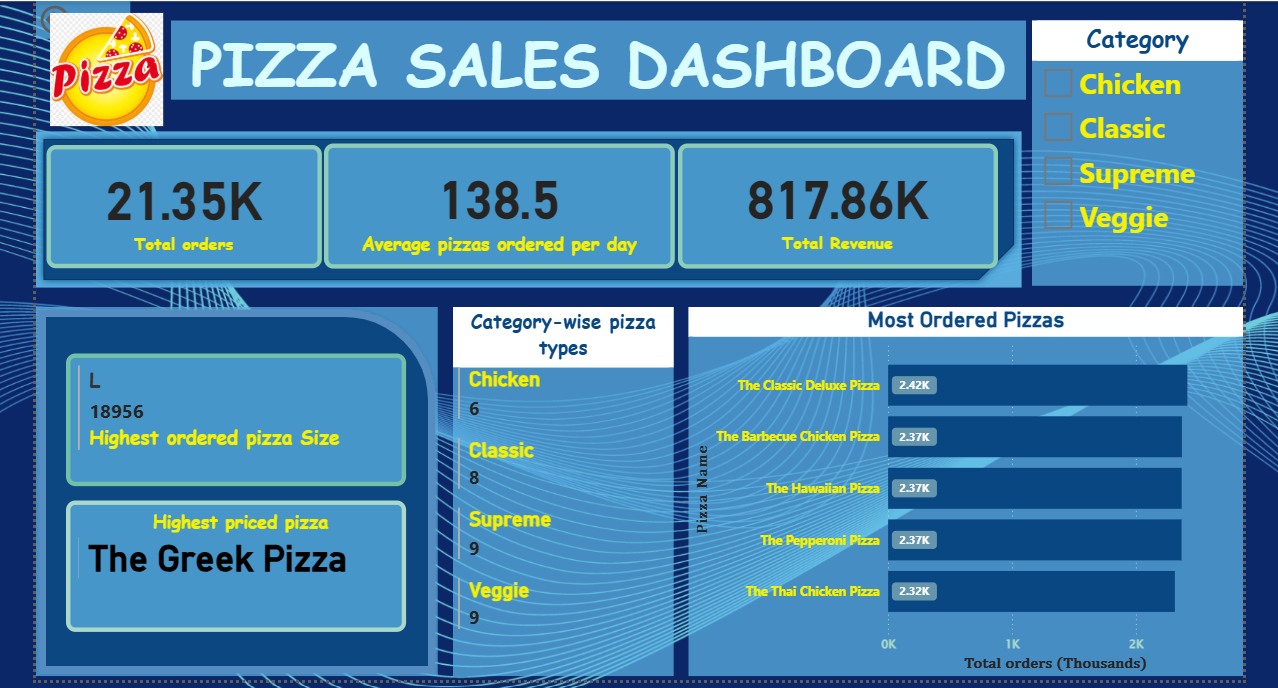

The page's visual inventory and layout, read from the dashboard file:
{"tool":"powerbi","page":{"name":"Page 1","canvas":[1280,720],"ordinal":0},"visuals":[{"type":"actionButton","box":[0,0,100,40],"z":0},{"type":"shape","box":[0,138,1045,165.4],"z":0,"group":"g2"},{"type":"shape","box":[0,324.5,426.3,391.3],"z":0,"group":"g3"},{"type":"card","fields":{"Values":["CountNonNull(orders.order_id)"]},"box":[10.5,152.4,291.8,130.8],"z":1000,"group":"g4"},{"type":"multiRowCard","title":"Category-wise pizza types","fields":{"Values":["pizza_types.category","CountNonNull(pizza_types.name)"]},"box":[442.2,324.5,233.8,391.3],"z":1000},{"type":"group","id":"g1","title":"Group 3","box":[31.8,373.8,359.5,294.3],"z":1000,"group":"g3"},{"type":"multiRowCard","title":"Highest priced pizza","fields":{"Values":["pizza_types.name"]},"box":[31.8,530,360.7,139.3],"z":1000,"group":"g1"},{"type":"group","id":"g2","title":"Group 2","box":[0,138,1045,165.4],"z":2000},{"type":"card","fields":{"Values":["order_details.Revenue"]},"box":[679.4,150.8,339,132.4],"z":3000,"group":"g4"},{"type":"group","id":"g3","title":"Group 4","box":[0,324.5,426.3,391.3],"z":3000},{"type":"shape","title":"PIZZA SALES DASHBOARD","box":[143.2,20.7,906.6,84.3],"z":3500},{"type":"barChart","title":"Most Ordered Pizzas","fields":{"Category":["pizza_types.name"],"Y":["CountNonNull(order_details.order_details_id)"]},"box":[691.9,324.5,588.5,391.3],"z":4000},{"type":"multiRowCard","fields":{"Values":["pizzas.size","Sum(order_details.quantity)"]},"box":[31.8,373.8,360.7,140.9],"z":4000,"group":"g1"},{"type":"slicer","title":"Category","fields":{"Values":["pizza_types.category"]},"box":[1056.2,20.7,224.3,281.5],"z":5000},{"type":"card","fields":{"Values":["order_details.Sum of quantity divided by Count of date"]},"box":[304.1,150.8,372.2,132.4],"z":5000,"group":"g4"},{"type":"image","box":[9.5,0,130.4,144.7],"z":5001},{"type":"group","id":"g4","title":"Group 1","box":[10.5,150.8,1007.9,132.4],"z":6001,"group":"g2"}]}

Visuals, with their boxes in screenshot pixels (x1, y1, x2, y2):
actionButton: l=33, t=0, r=128, b=34
shape: l=33, t=127, r=1019, b=283
shape: l=33, t=303, r=436, b=672
card - CountNonNull(orders.order_id): l=43, t=140, r=319, b=264
"Category-wise pizza types" multiRowCard: l=451, t=303, r=671, b=672
"Group 3" group: l=63, t=349, r=403, b=627
"Highest priced pizza" multiRowCard: l=63, t=497, r=404, b=628
"Group 2" group: l=33, t=127, r=1019, b=283
card - order_details.Revenue: l=674, t=139, r=994, b=264
"Group 4" group: l=33, t=303, r=436, b=672
"PIZZA SALES DASHBOARD" shape: l=168, t=16, r=1024, b=96
"Most Ordered Pizzas" barChart: l=686, t=303, r=1241, b=672
multiRowCard - pizzas.size x Sum(order_details.quantity): l=63, t=349, r=404, b=482
"Category" slicer: l=1030, t=16, r=1242, b=282
card - order_details.Sum of quantity divided by Count of date: l=320, t=139, r=671, b=264
image: l=42, t=0, r=165, b=133
"Group 1" group: l=43, t=139, r=994, b=264
